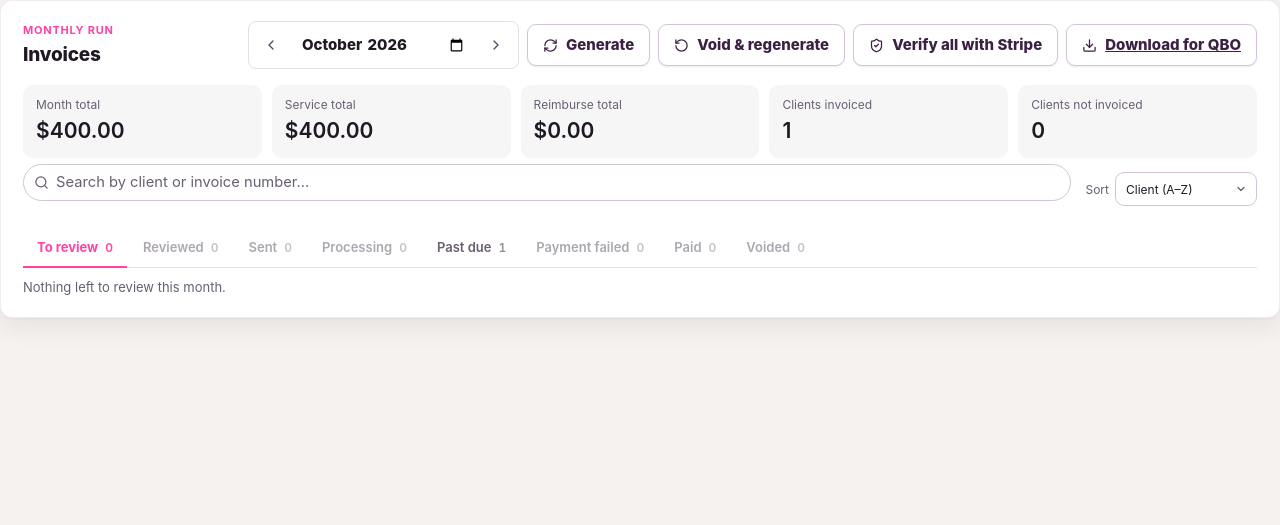
Scenario: the Past due tab › says "1 day" on the first day past the line
Step 1. Click the tab "Past due 1" → (472, 249), box [423,229,520,268]
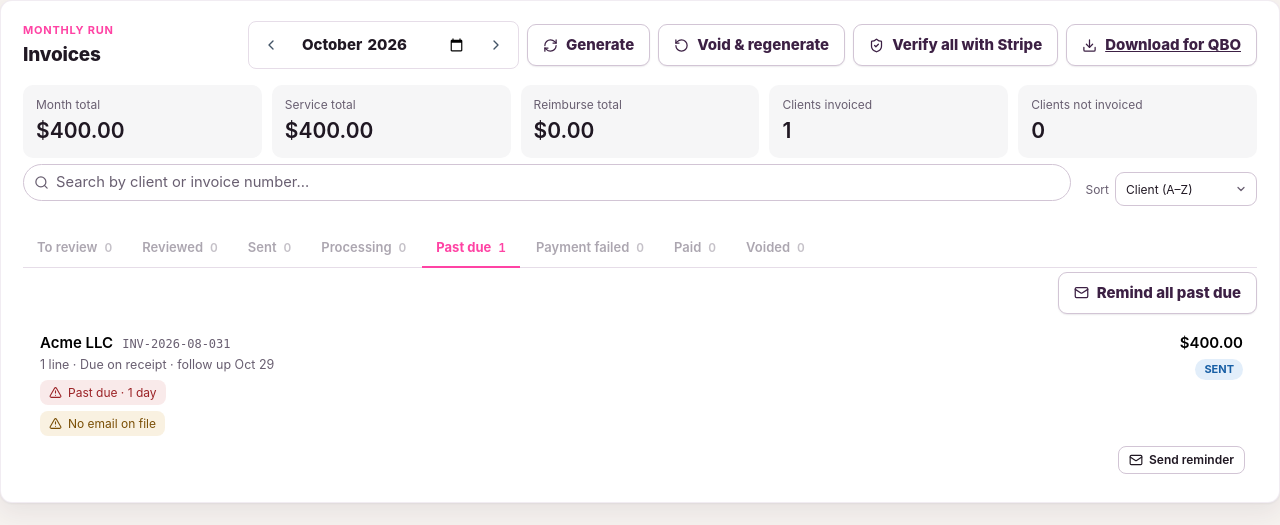
Now the element titled "Past-due line was " reads "Past due · 1 day", box [40,380,166,405]
